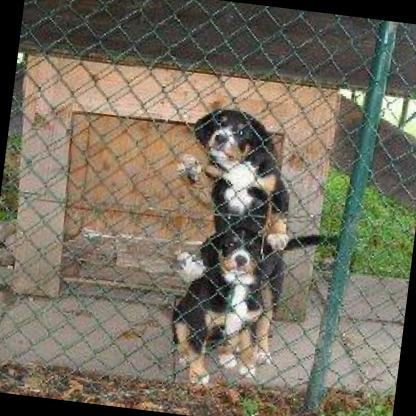EntleBucher: (152, 99, 304, 366), (164, 220, 286, 396)
